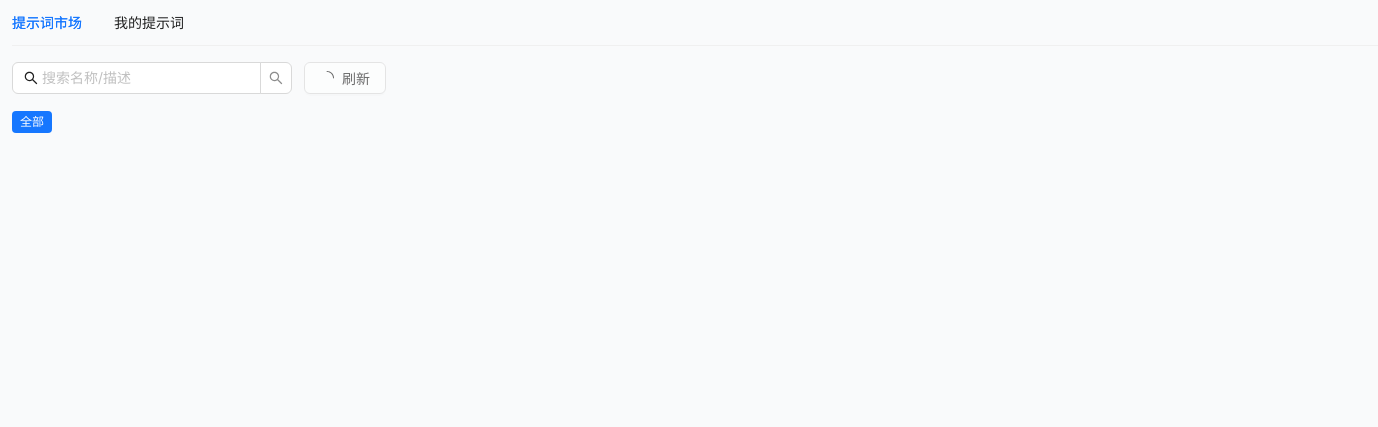
Test: PromptCenter › 切换到我的提示词 tab：加载个人列表并显示上架状态标签
What coordinates should you click on to do the following:
click the tab "我的提示词"
I would click on:
 (149, 23)
Its box is [114,12,184,34].
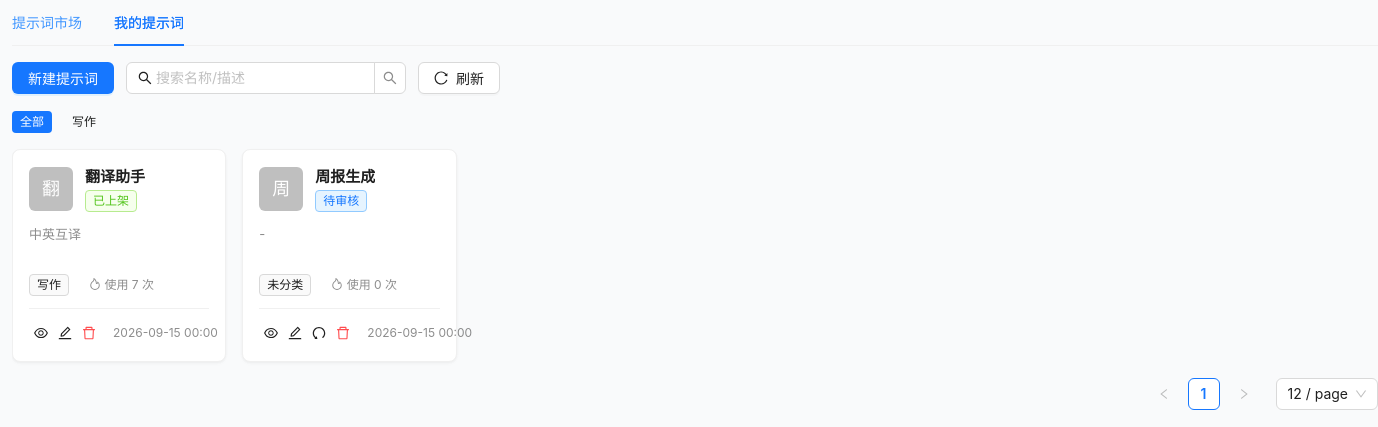
Check: the text "翻译助手" is shown, box [85,166,145,187]
Check: the text "周报生成" is shown, box [315,166,375,187]
Check: the text "已上架" is shown, box [85,190,137,212]
